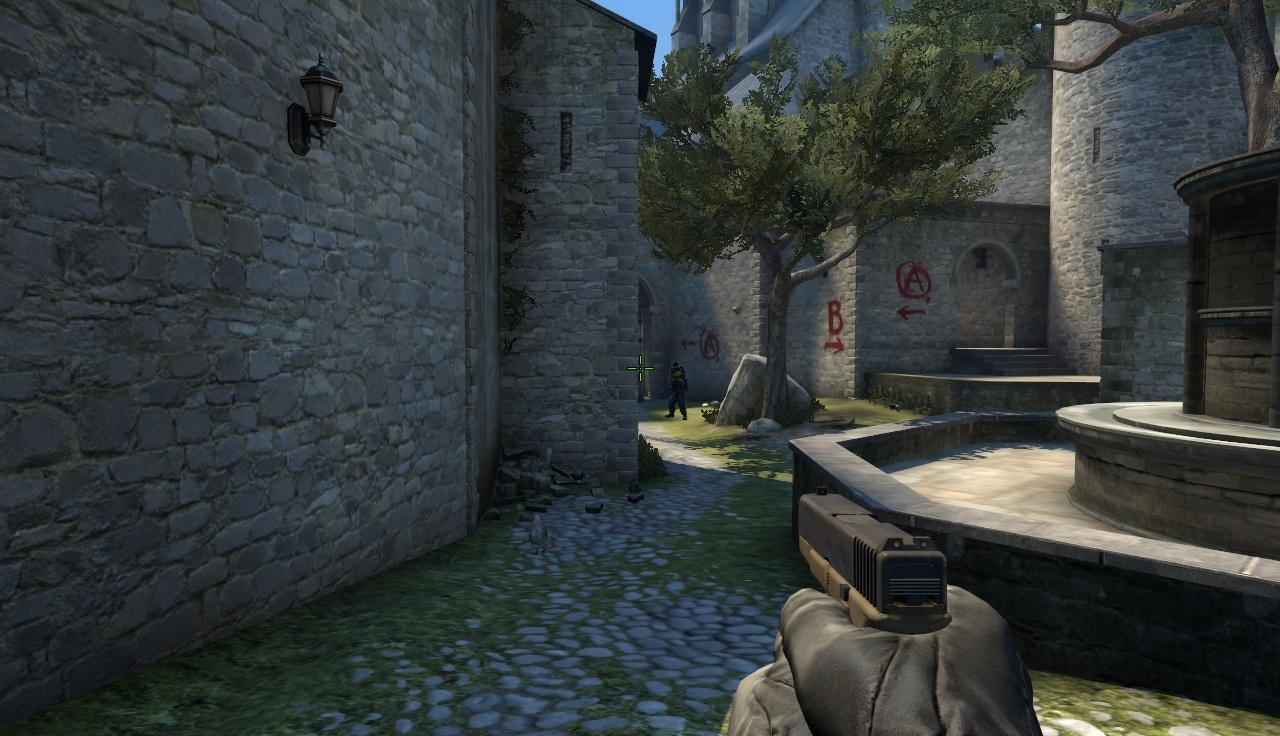ct: (670, 367, 687, 420)
cthead: (673, 367, 682, 377)
pistol: (795, 486, 1039, 736)
